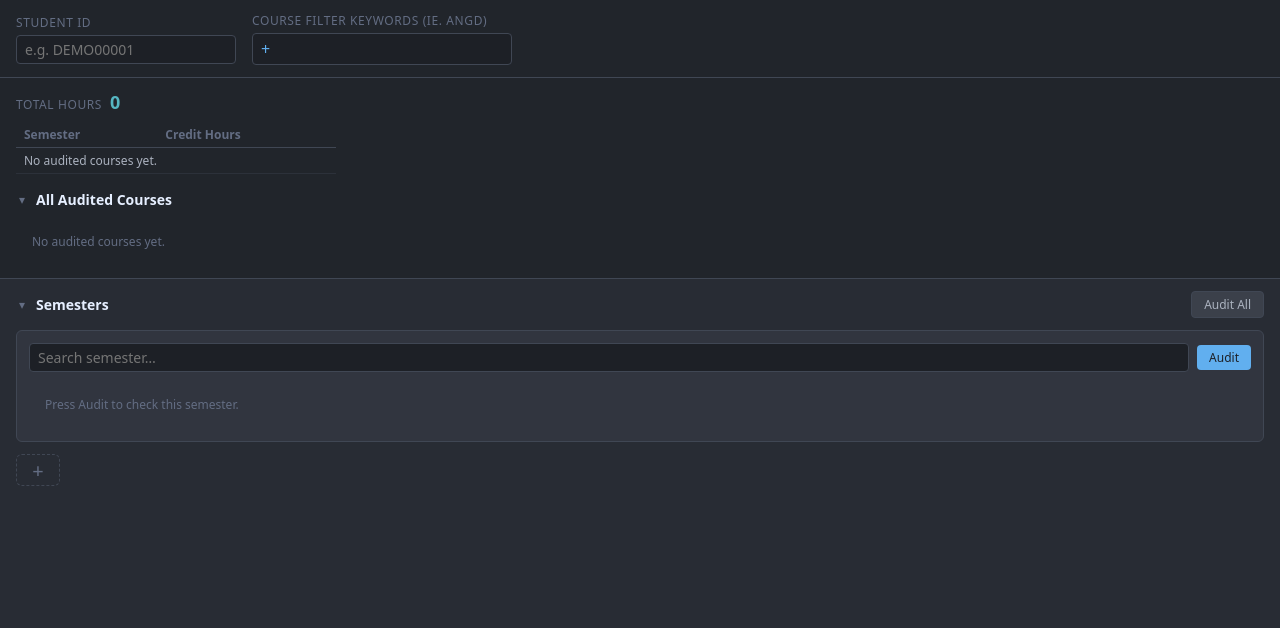
Test: StudentAudit › removes a semester card and falls back to no remove button with one left
Click the button titled "Add semester" below "Press Audit to check this semester.": [38, 470] box [16, 454, 60, 486]
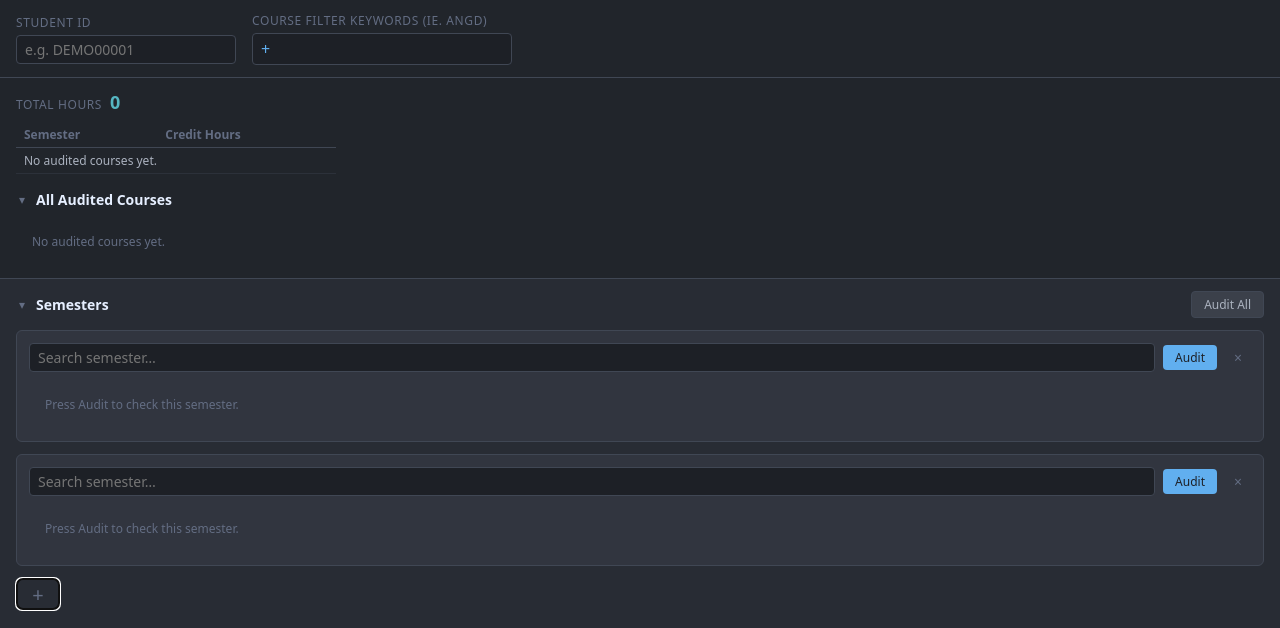
Click the button named "Remove semester": [1238, 358] box [1225, 344, 1251, 370]
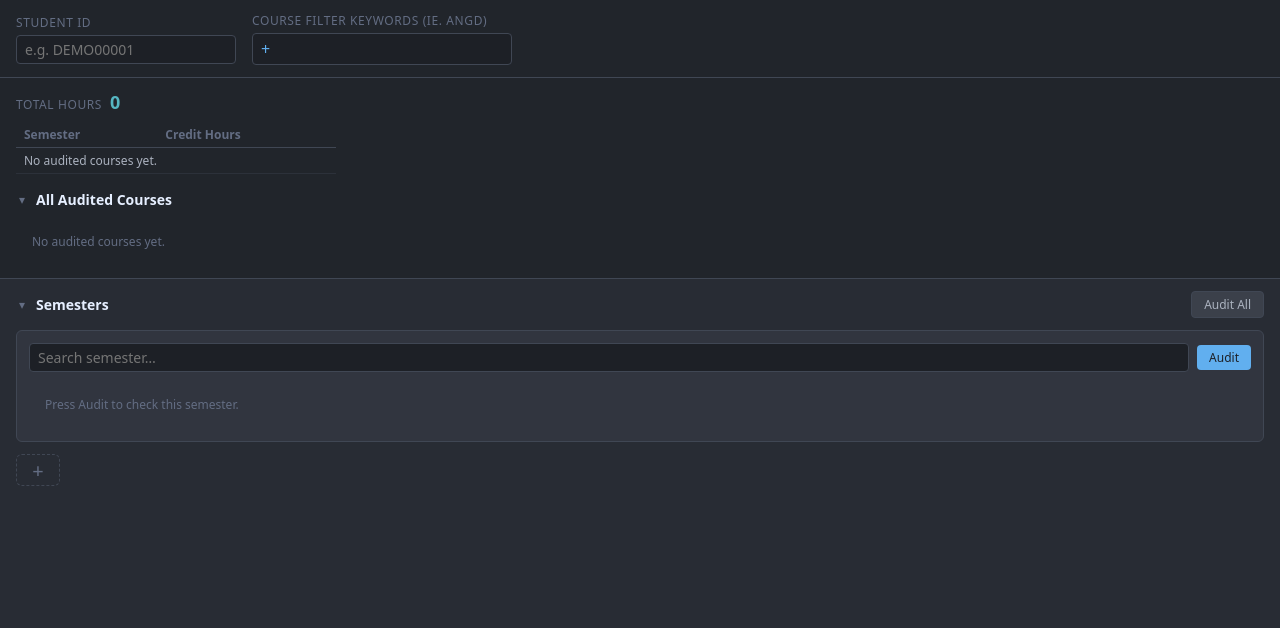
Check: the number of buttons "Audit" is 1, box [1197, 345, 1251, 370]
